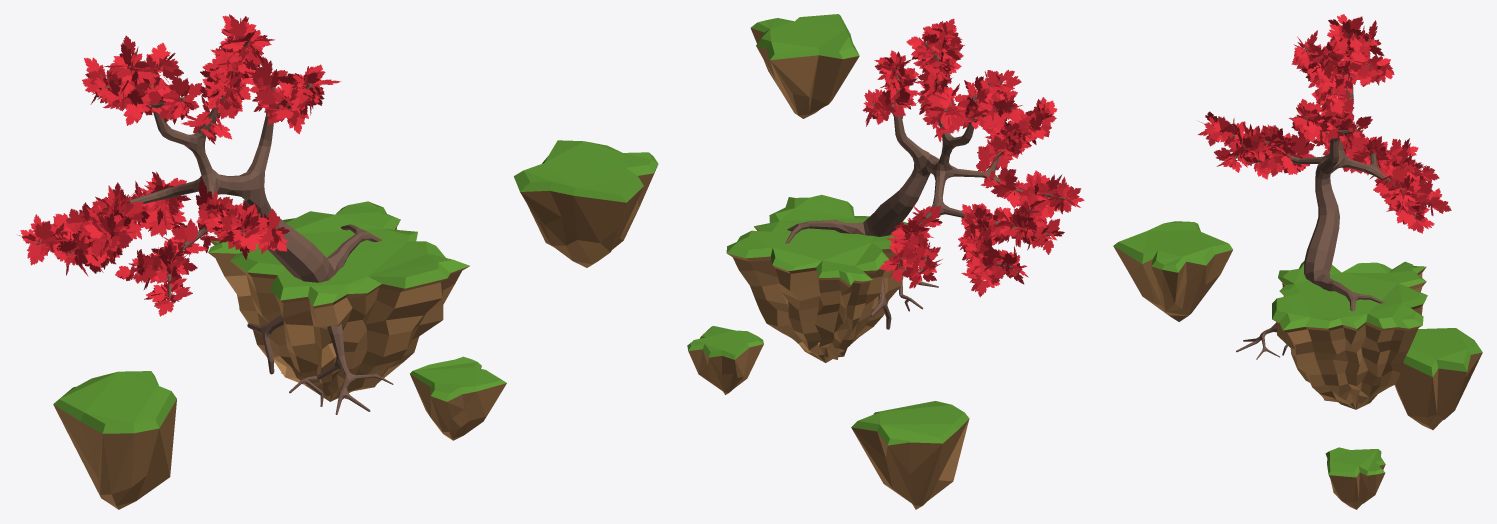
The picture shows the model from 3 angles, left to right: view 1: azimuth 30°, elevation 25°; view 2: azimuth 150°, elevation 25°; view 3: azimuth 270°, elevation 25°; orthographic projection. The views are drawn at different scales.
Visible parts, largest first — view 1: tanah, tanah.002, tanah.003, pohon, tanah.001; view 2: tanah, tanah.002, tanah.003, pohon, tanah.001; view 3: tanah, tanah.003, tanah.002, pohon, tanah.001.
Boxes of the visible parts, x1,y1,x2,y2 form: tanah: (208, 201, 469, 401); tanah.002: (53, 371, 176, 509); tanah.003: (514, 140, 658, 267); pohon: (36, 39, 393, 414); tanah.001: (410, 356, 506, 440); tanah: (726, 194, 907, 362); tanah.002: (851, 401, 969, 509); tanah.003: (750, 14, 859, 118); pohon: (785, 42, 1065, 329); tanah.001: (687, 326, 763, 394); tanah: (1272, 261, 1427, 409); tanah.003: (1113, 221, 1232, 321); tanah.002: (1394, 328, 1482, 429); pohon: (1232, 32, 1430, 359); tanah.001: (1325, 447, 1385, 509).
Bounding box in the file's own units: 573 × 595 × 481.
